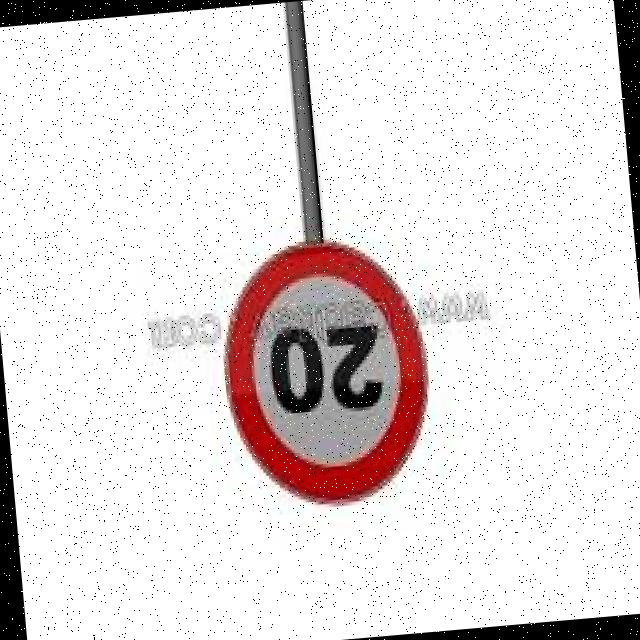speed_limit_20: (208, 219, 447, 526)
